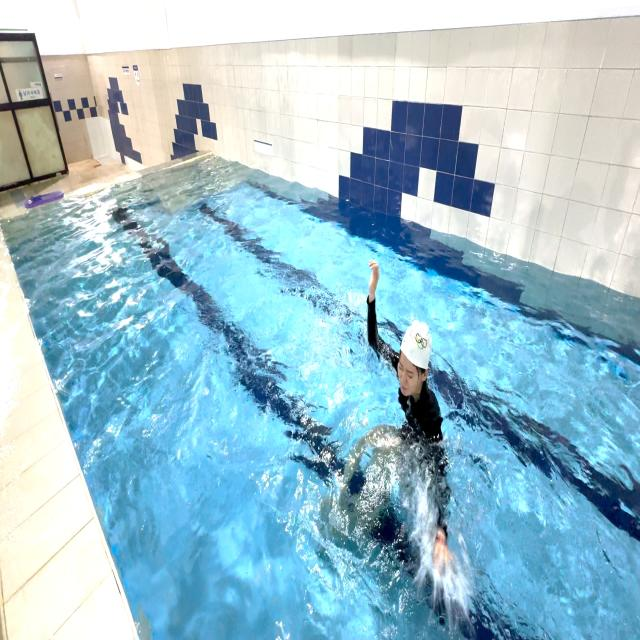Drowning: (351, 258, 454, 574)
